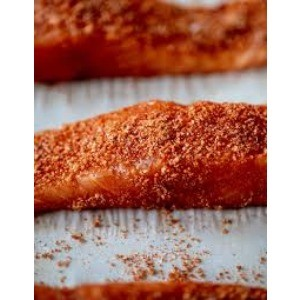salmon_brain food: (49, 101, 255, 213), (45, 9, 242, 87)
